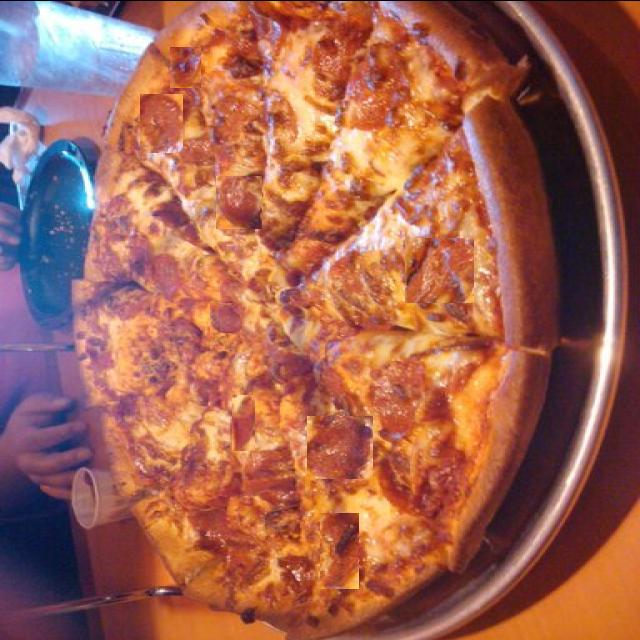pepperoni: (406, 237, 476, 302), (307, 415, 373, 478), (372, 358, 426, 435), (320, 512, 359, 588), (140, 93, 183, 152), (216, 175, 262, 228), (144, 253, 177, 300), (170, 44, 201, 86), (232, 394, 255, 450), (210, 302, 242, 332)
pizza: (73, 0, 564, 638)
